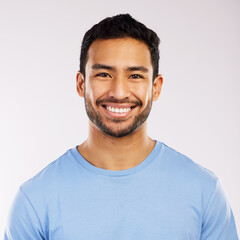young: (71, 8, 169, 138)
